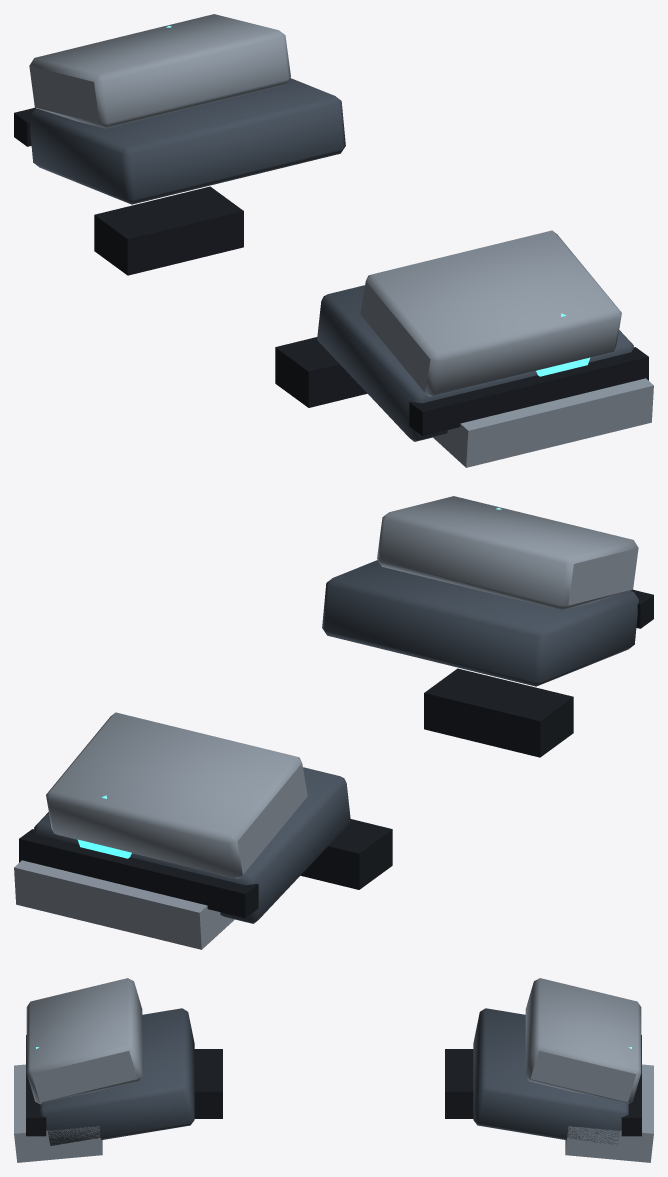
File: hombreras.glb
The picture shows the model from 3 angles, top to bottom: view 1: azimuth 30°, elevation 25°; view 2: azimuth 150°, elevation 25°; view 3: azimuth 270°, elevation 25°; orthographic projection. The views are drawn at different scales.
Visible parts, largest first — view 1: hombreras; view 2: hombreras; view 3: hombreras.
Boxes of the visible parts, <box> form: hombreras: <box>14,14,653,467</box>; hombreras: <box>14,496,653,949</box>; hombreras: <box>14,978,653,1162</box>.
Size of the model in its own units: 0.2095 by 0.1211 by 0.6338.
